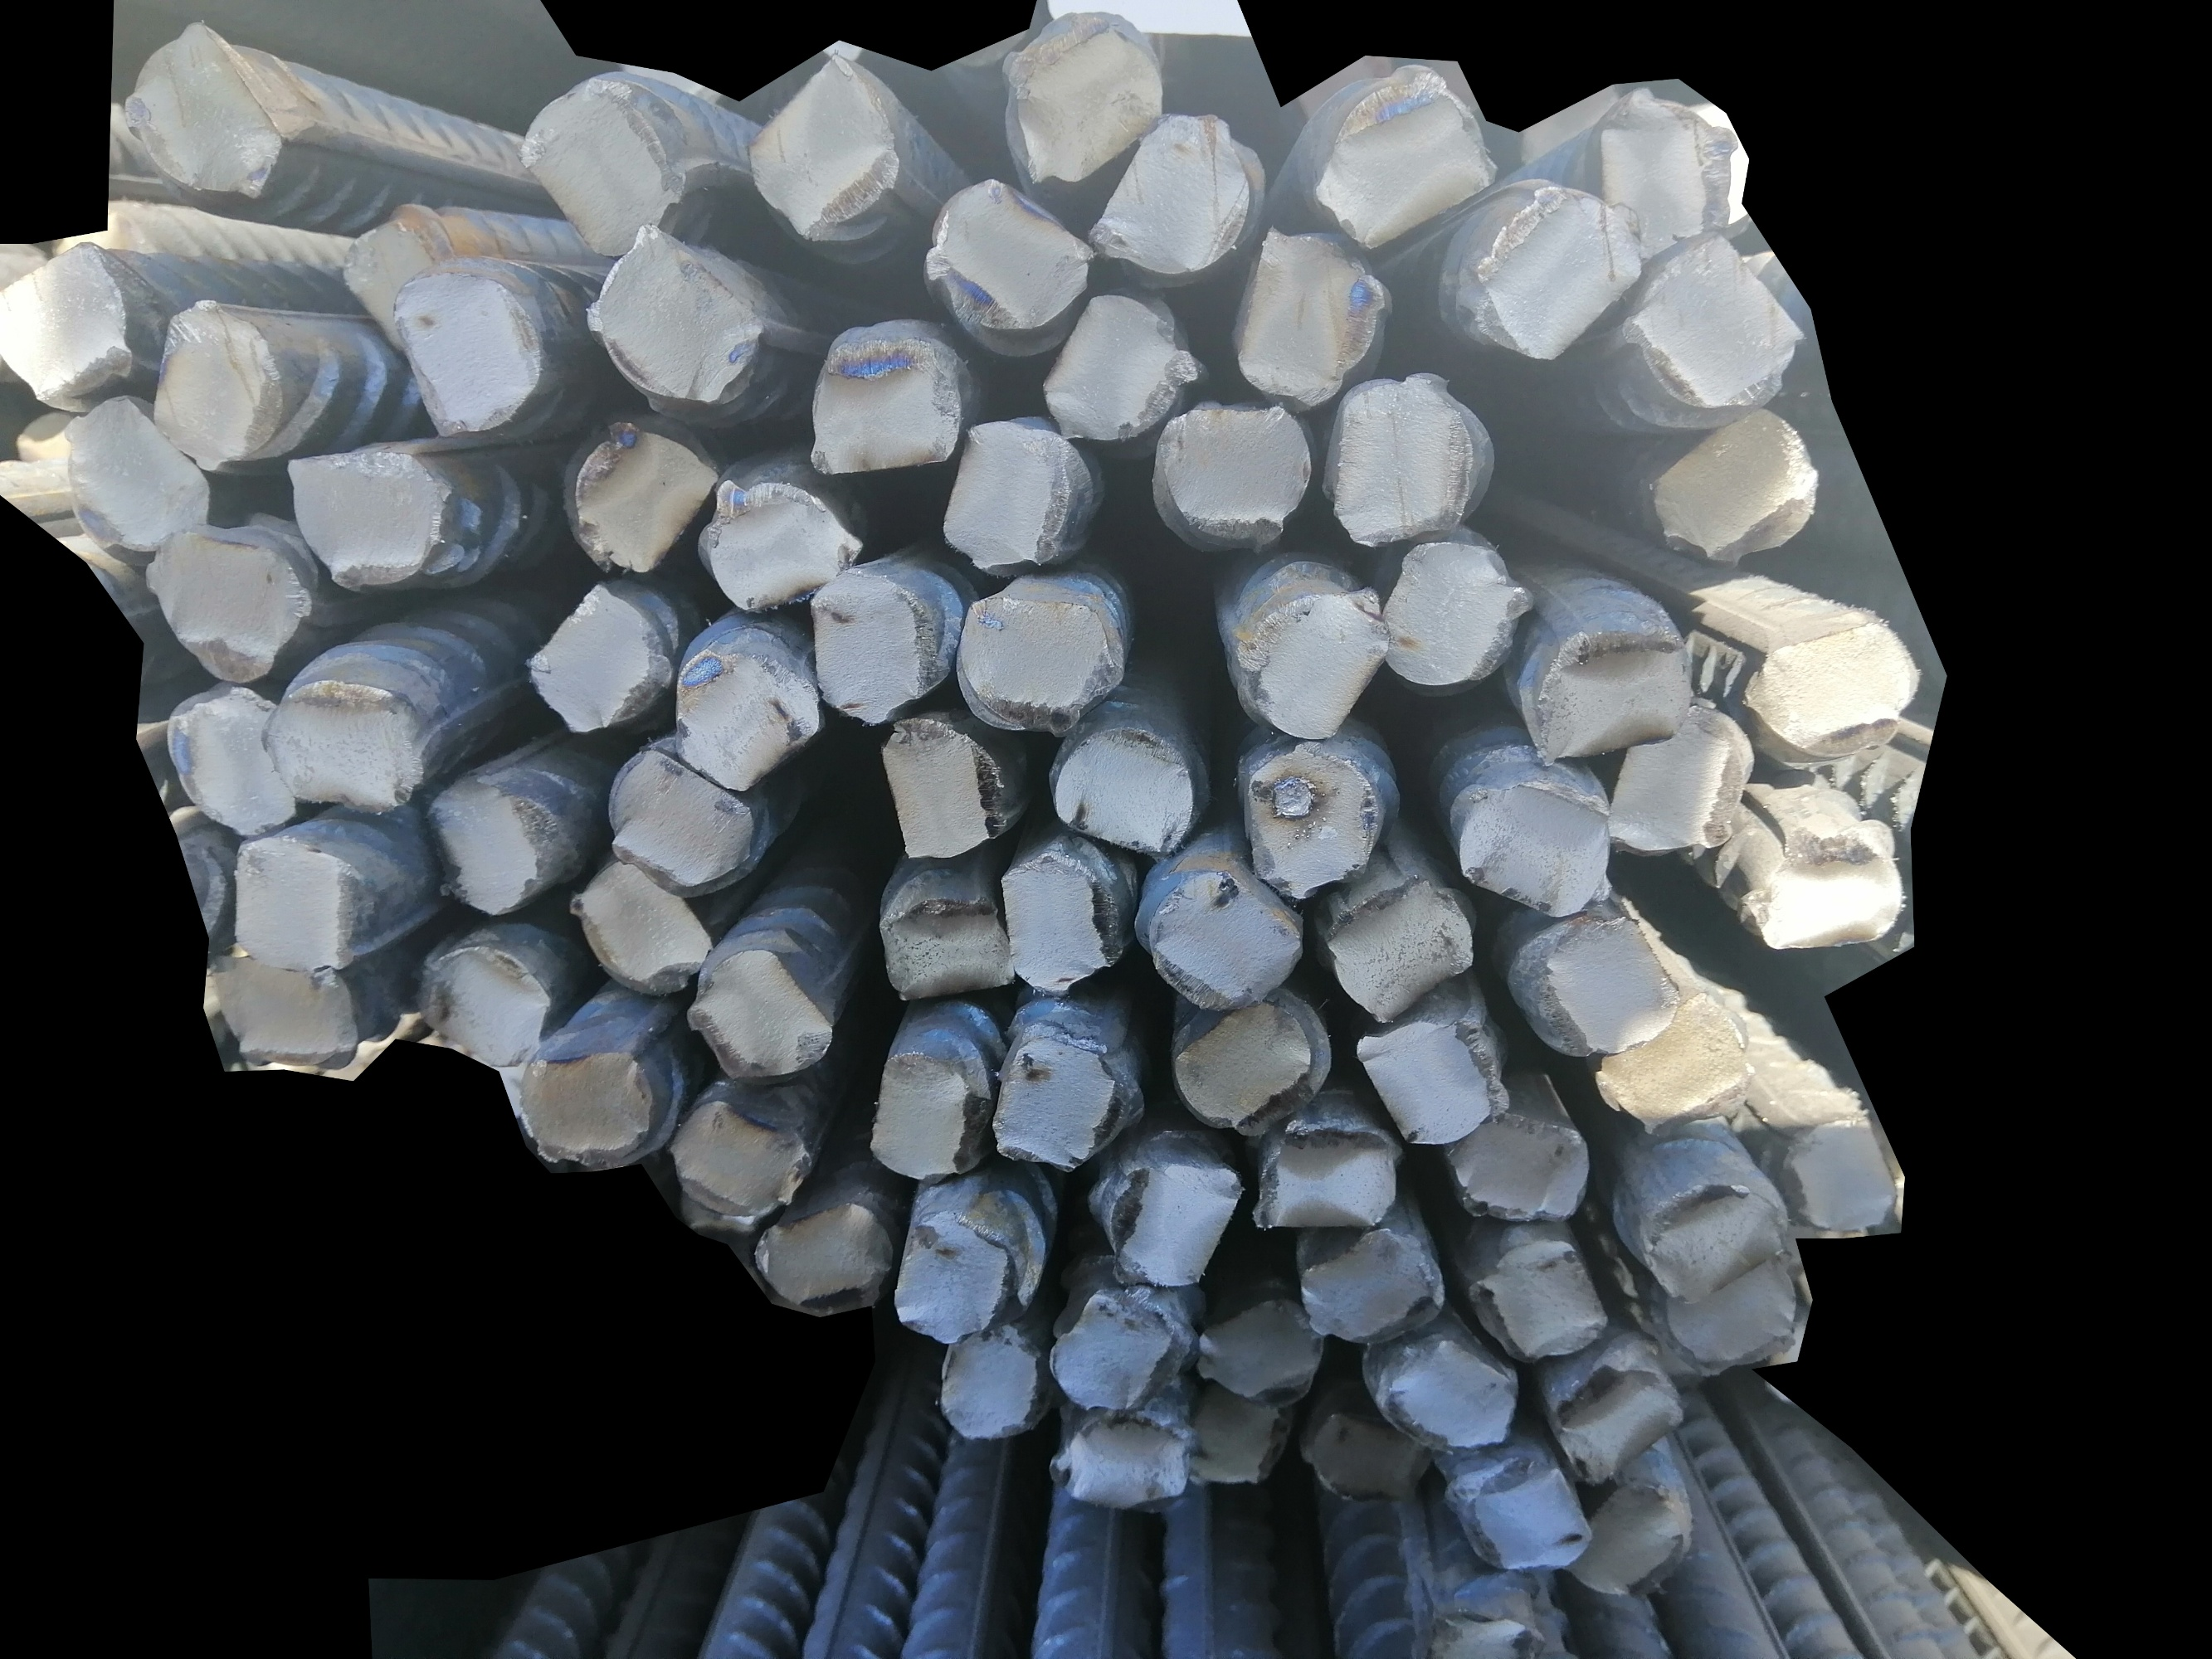rebar: (523, 64, 699, 265), (577, 216, 763, 403), (1480, 178, 1659, 369), (127, 17, 300, 213), (1626, 234, 1806, 413), (141, 509, 314, 695), (750, 61, 915, 244), (1361, 519, 1530, 697), (387, 265, 547, 451), (1741, 605, 1919, 770), (1008, 2, 1164, 185), (1313, 84, 1489, 242), (953, 580, 1133, 735), (1225, 232, 1393, 397), (1586, 89, 1748, 260), (1523, 608, 1691, 772), (1096, 101, 1250, 279), (1349, 1006, 1534, 1152), (1515, 904, 1686, 1061), (804, 326, 967, 486), (1232, 573, 1388, 742), (695, 469, 870, 619), (929, 176, 1089, 338), (1227, 735, 1386, 899), (1325, 369, 1475, 542), (150, 293, 291, 476), (2, 235, 146, 413), (1131, 861, 1302, 1011), (1327, 864, 1478, 1030), (68, 390, 216, 559), (521, 573, 668, 742), (1630, 1169, 1799, 1314), (927, 415, 1082, 572), (288, 446, 451, 594), (1457, 772, 1621, 920), (1745, 823, 1912, 967), (666, 643, 824, 795), (804, 563, 947, 728), (267, 674, 436, 814), (568, 416, 723, 568), (596, 739, 753, 889), (167, 676, 302, 840), (1672, 411, 1820, 559), (1166, 988, 1320, 1131), (664, 1082, 819, 1223), (424, 763, 561, 922), (1042, 728, 1206, 859), (410, 932, 558, 1075), (1604, 985, 1752, 1126), (884, 706, 1014, 864), (1609, 720, 1755, 861), (1037, 289, 1177, 436), (1161, 399, 1313, 533), (579, 849, 720, 992), (990, 838, 1117, 995), (1095, 1152, 1236, 1293), (990, 1028, 1128, 1173), (1426, 1100, 1591, 1220), (209, 941, 364, 1068), (230, 838, 368, 979), (1551, 1474, 1700, 1603), (507, 1039, 657, 1166), (1450, 1445, 1591, 1577), (1253, 1117, 1405, 1239), (690, 960, 835, 1087), (1551, 1358, 1682, 1493), (1381, 1326, 1513, 1457), (1661, 1243, 1797, 1370), (865, 1046, 985, 1188), (1049, 1401, 1201, 1511), (1478, 1232, 1609, 1359), (873, 892, 1018, 1004), (898, 1209, 1016, 1344), (338, 216, 450, 352), (1787, 1100, 1898, 1236), (1053, 1297, 1178, 1417), (1194, 1290, 1323, 1406), (760, 1204, 894, 1314), (1307, 1229, 1435, 1342), (1302, 1399, 1429, 1511), (927, 1321, 1044, 1441), (1184, 1377, 1286, 1502)
